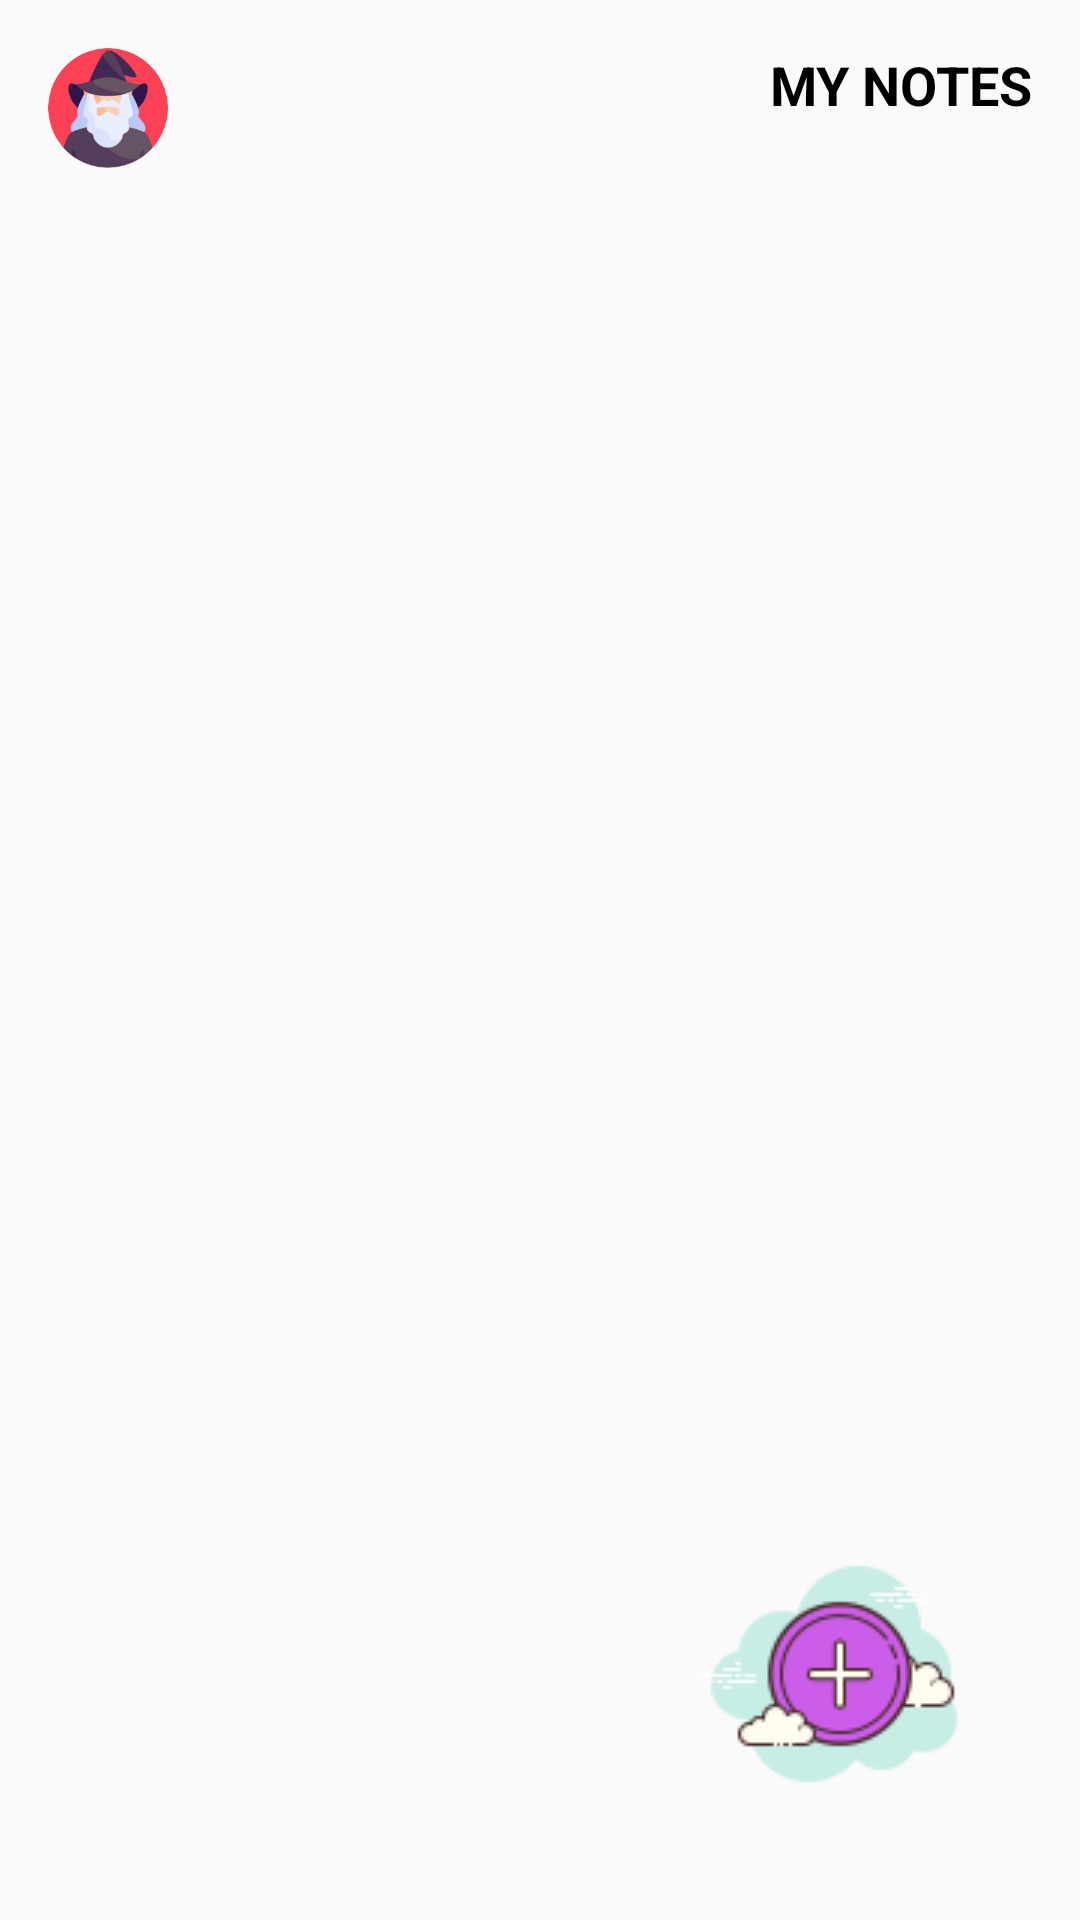

Screen size 1080w x 1920h. Icon name, then its box in pixels as [x1=x1, y1=y1, x2=x2, y2=y2]:
add: [x1=711, y1=1566, x2=957, y2=1782]
